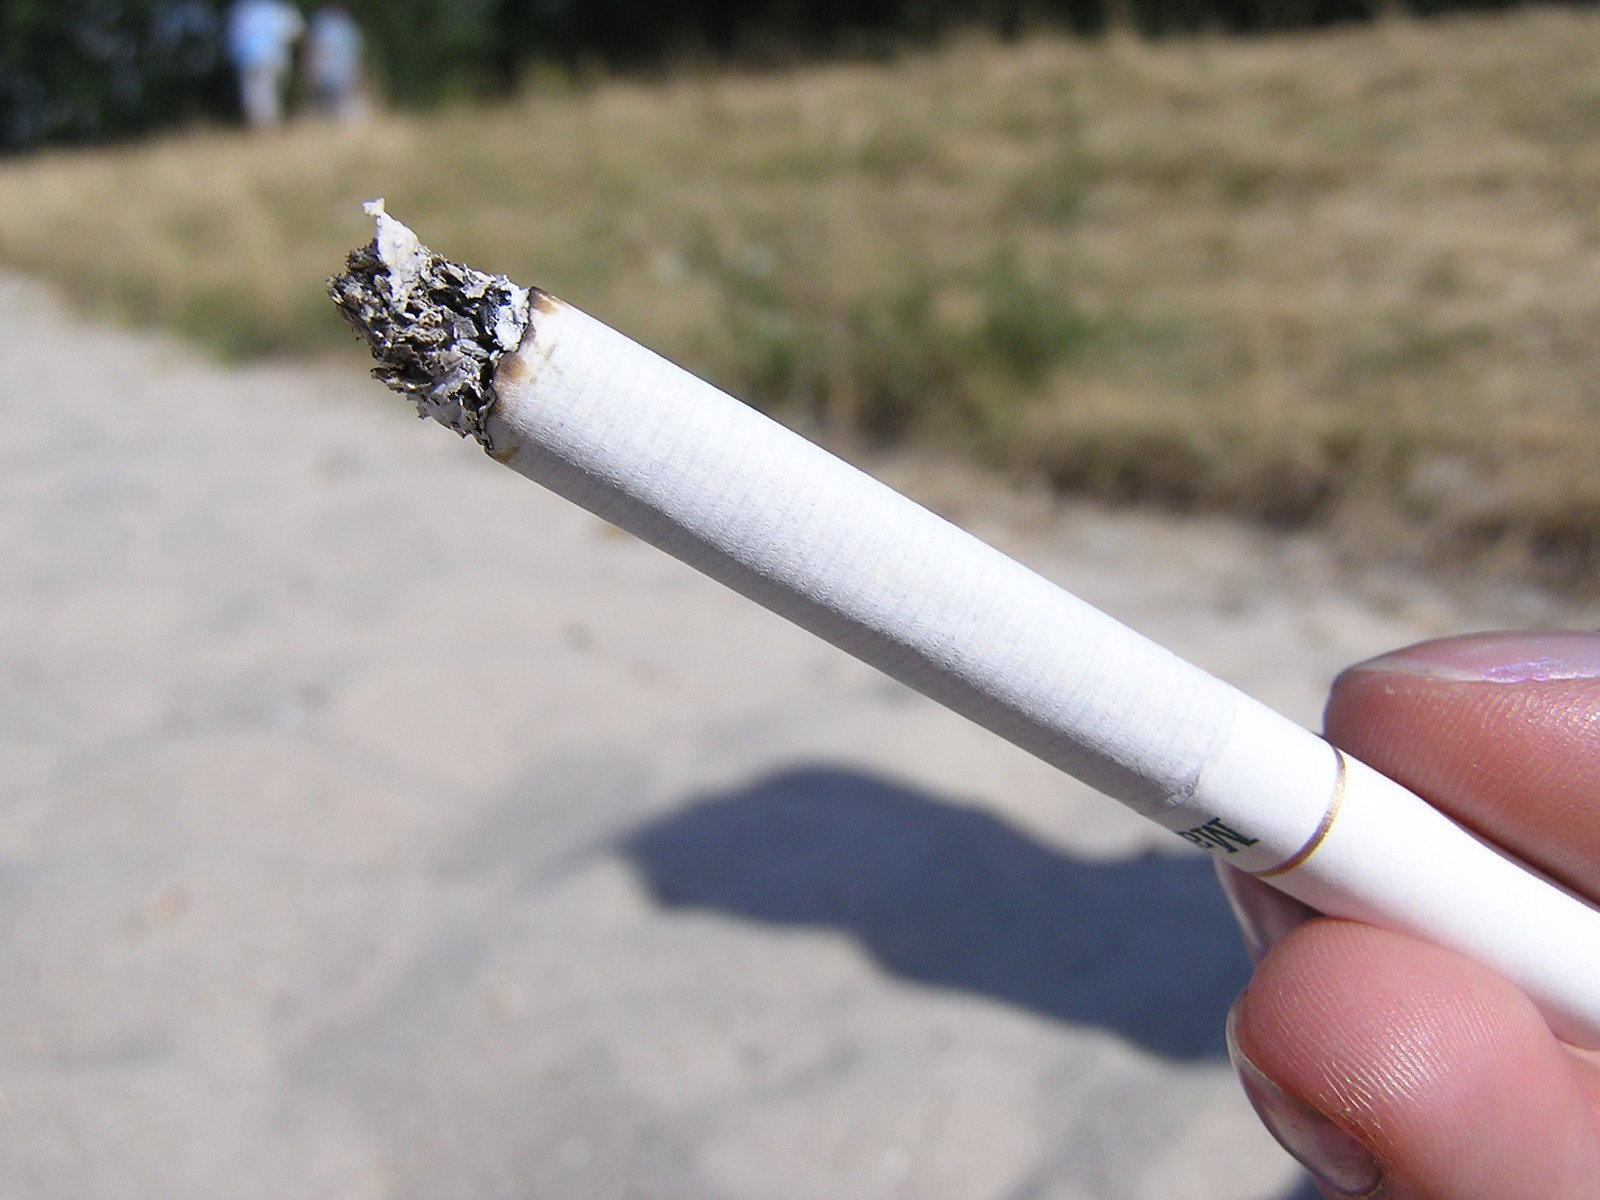cigarette: (330, 195, 1600, 1059)
